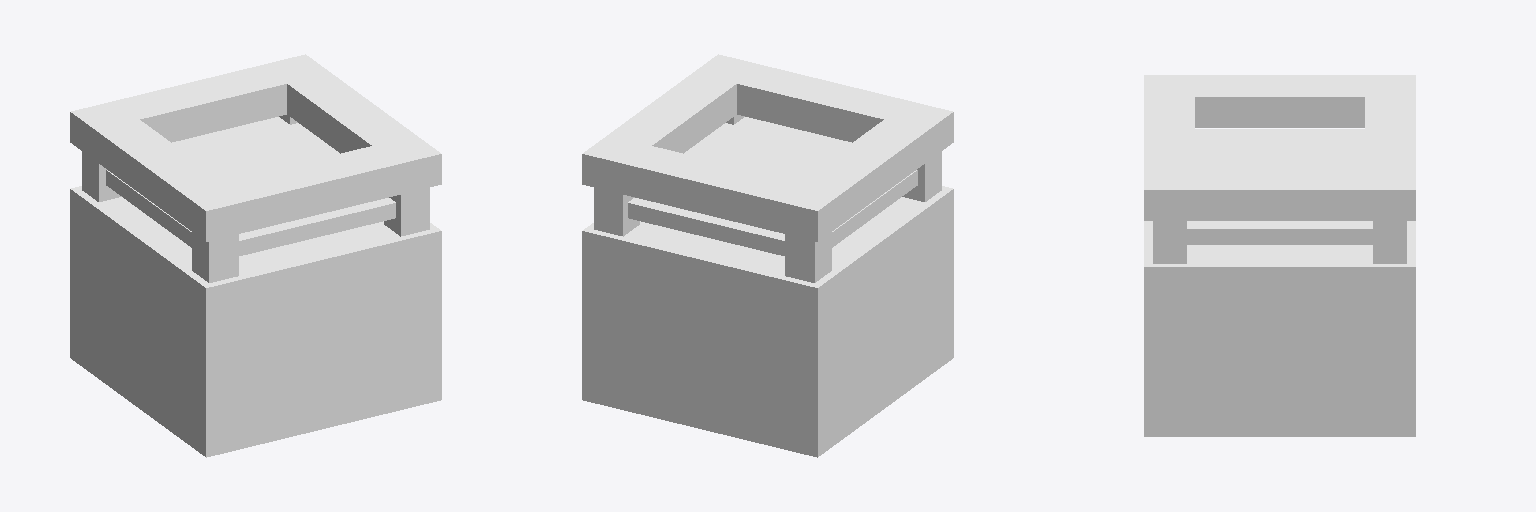
Rendered from table_sieve.obj.
3 views of the same model, side by side, from view 1: azimuth 30°, elevation 25°; view 2: azimuth 150°, elevation 25°; view 3: azimuth 270°, elevation 25° (orthographic).
Visible parts, largest first — view 1: model; view 2: model; view 3: model.
Boxes of the visible parts, <box> form: model: <box>70,54,441,457</box>; model: <box>582,54,953,457</box>; model: <box>1144,75,1415,436</box>.
Size of the model in its own units: 1 by 1 by 1.